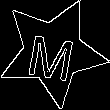M_N: (26, 23, 79, 81)
